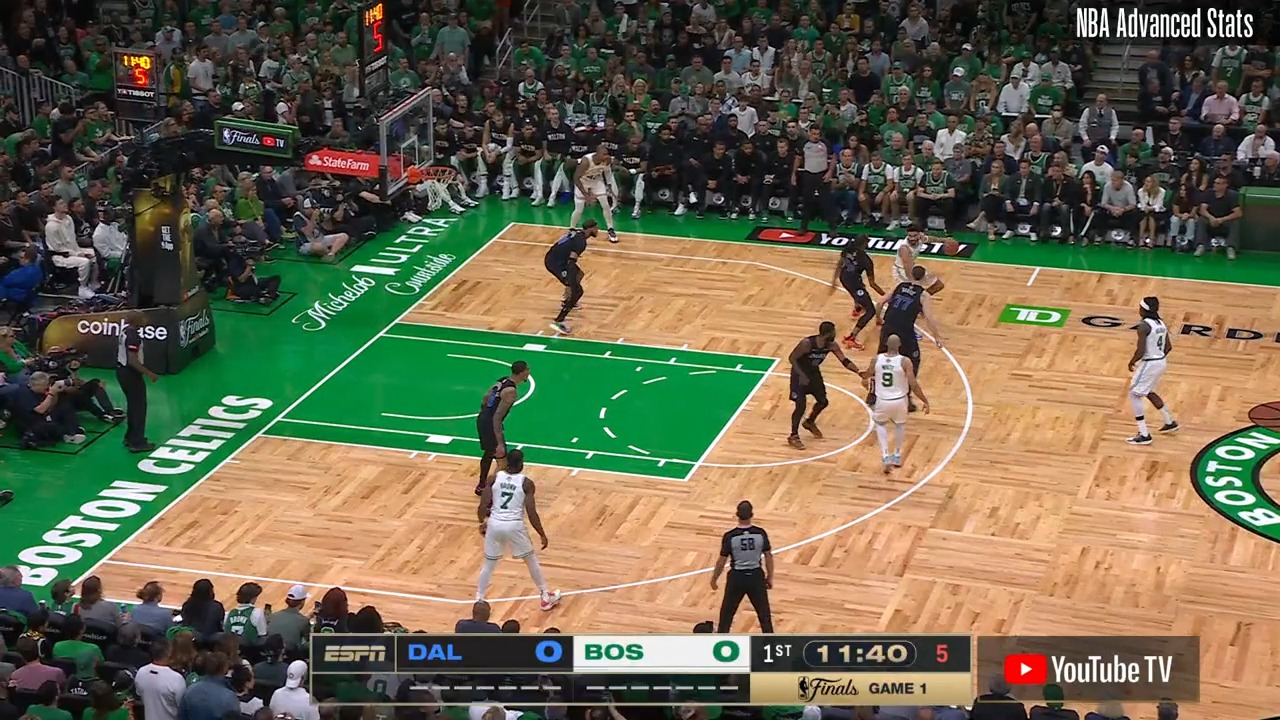basketball: (941, 238, 959, 257)
